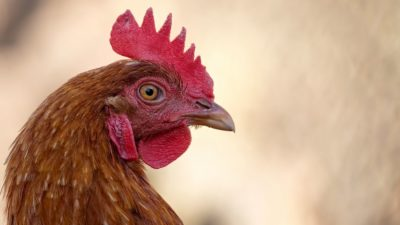Healthy: (1, 1, 241, 225)
